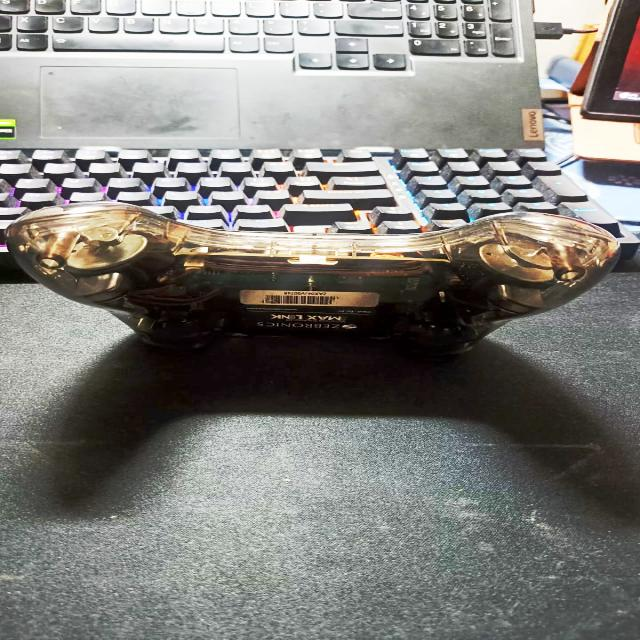gamepad: (1, 180, 638, 442)
